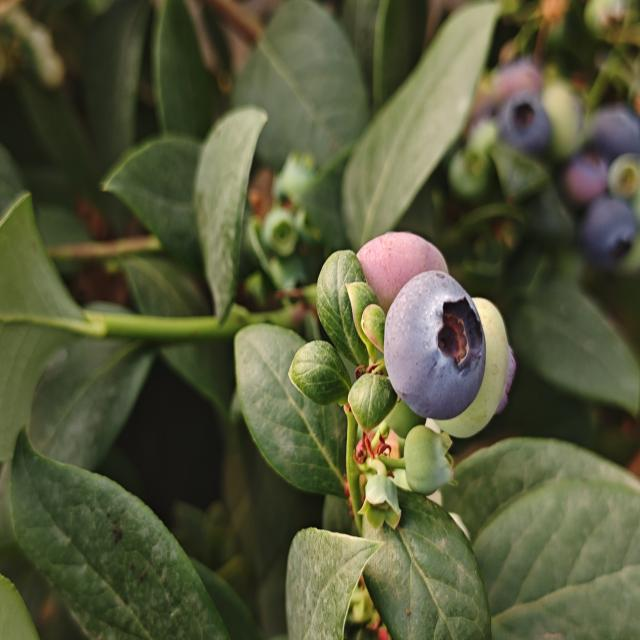ripe: (379, 267, 496, 422), (494, 82, 553, 164), (576, 194, 640, 265), (577, 97, 640, 165), (561, 152, 610, 211)
